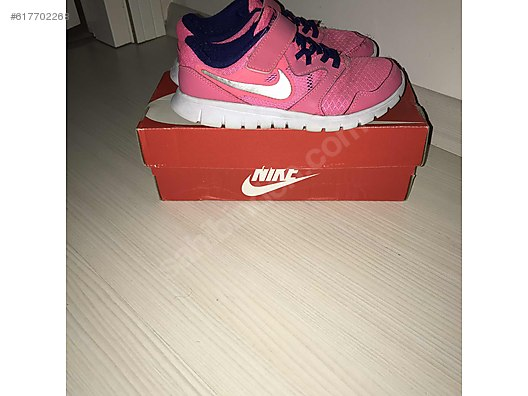nike: (201, 67, 294, 103)
